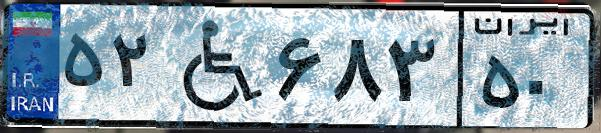0: (525, 38, 570, 115)
2: (110, 28, 158, 98)
3: (385, 28, 445, 110)
5: (57, 26, 110, 100), (475, 38, 525, 113)
6: (270, 28, 330, 110)
8: (330, 28, 385, 110)
ژ (معلولین و جانبازان): (158, 12, 270, 120)
